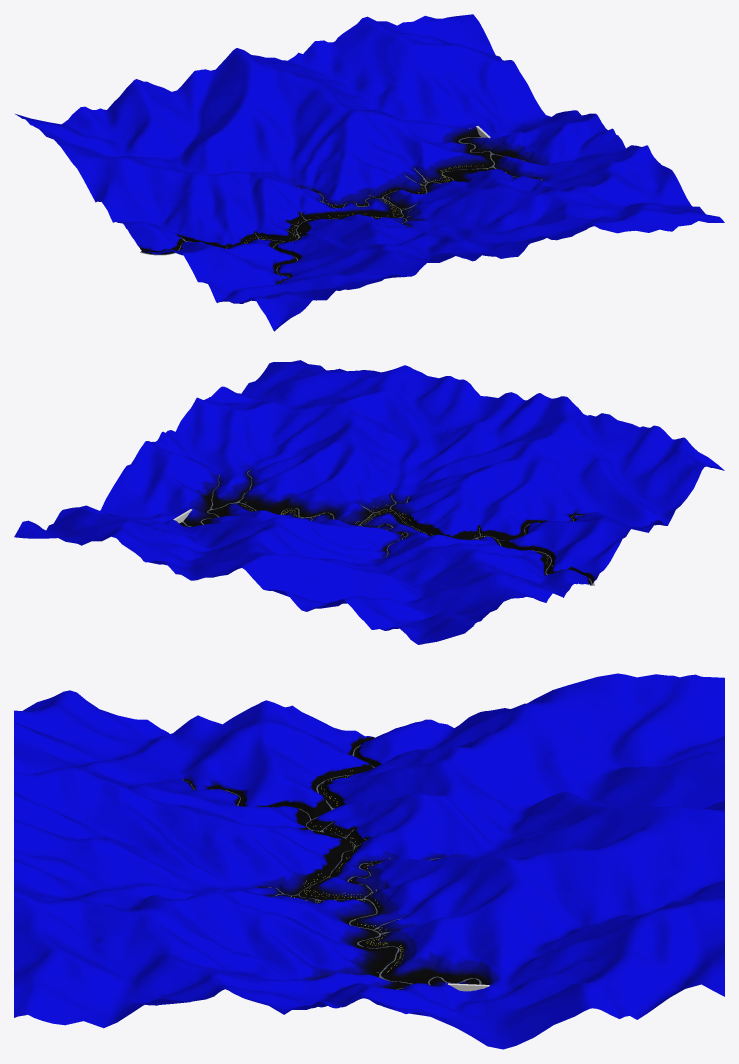
Rendered from OkutamaLake_allmodel_test0227.fbx.
The picture shows the model from 3 angles, top to bottom: view 1: azimuth 30°, elevation 25°; view 2: azimuth 150°, elevation 25°; view 3: azimuth 270°, elevation 25°; orthographic projection. The views are drawn at different scales.
Visible parts, largest first — view 1: GroundModeling03_Scaling, RiverWater.017; view 2: GroundModeling03_Scaling, RiverWater.017; view 3: GroundModeling03_Scaling, RiverWater.017.
Boxes of the visible parts, x1,y1,x2,y2 form: GroundModeling03_Scaling: (15,14,724,331); RiverWater.017: (140,137,542,283); GroundModeling03_Scaling: (14,360,724,644); RiverWater.017: (182,470,594,585); GroundModeling03_Scaling: (14,673,724,1049); RiverWater.017: (182,745,481,989).
Bounding box in the file's own units: 1564637 × 212478 × 1556416.
